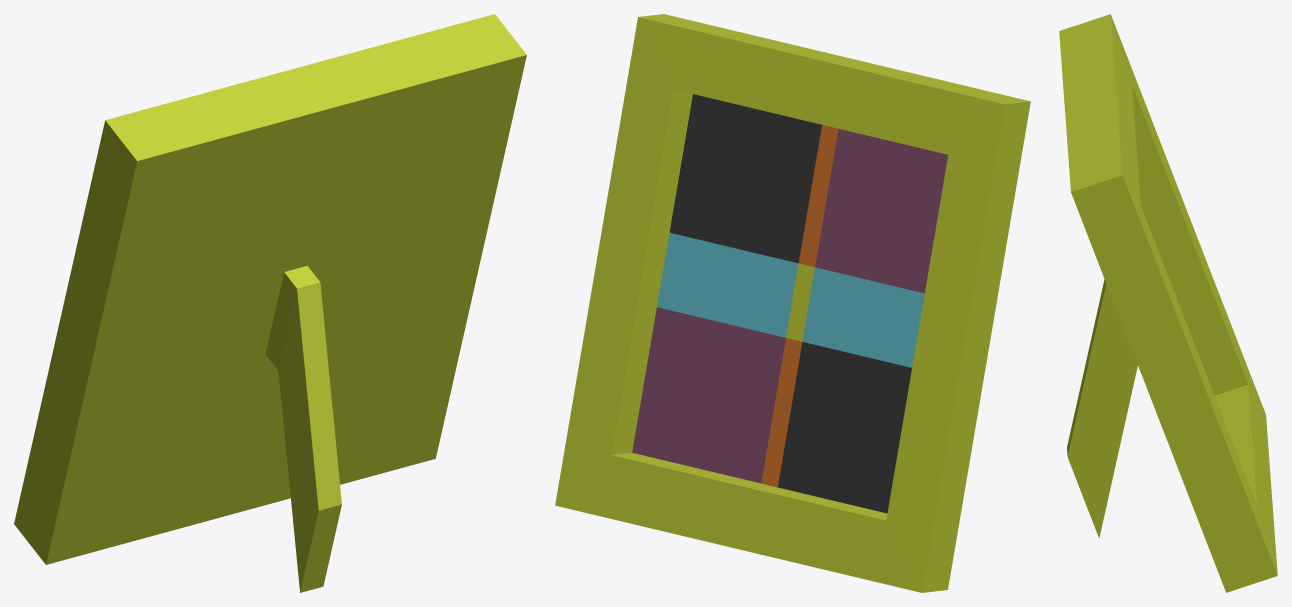
File: FrameH_Material.fbx
The picture shows the model from 3 angles, left to right: view 1: azimuth 30°, elevation 25°; view 2: azimuth 150°, elevation 25°; view 3: azimuth 270°, elevation 25°; orthographic projection. The views are drawn at different scales.
Visible parts, largest first — view 1: FrameH; view 2: FrameH; view 3: FrameH.
Part boxes in pixels (x1,y1,x2,y2): FrameH: (14, 14, 526, 592); FrameH: (555, 14, 1030, 592); FrameH: (1059, 14, 1277, 592).
Size of the model in its own units: 0.1377 by 0.1709 by 0.0768.
